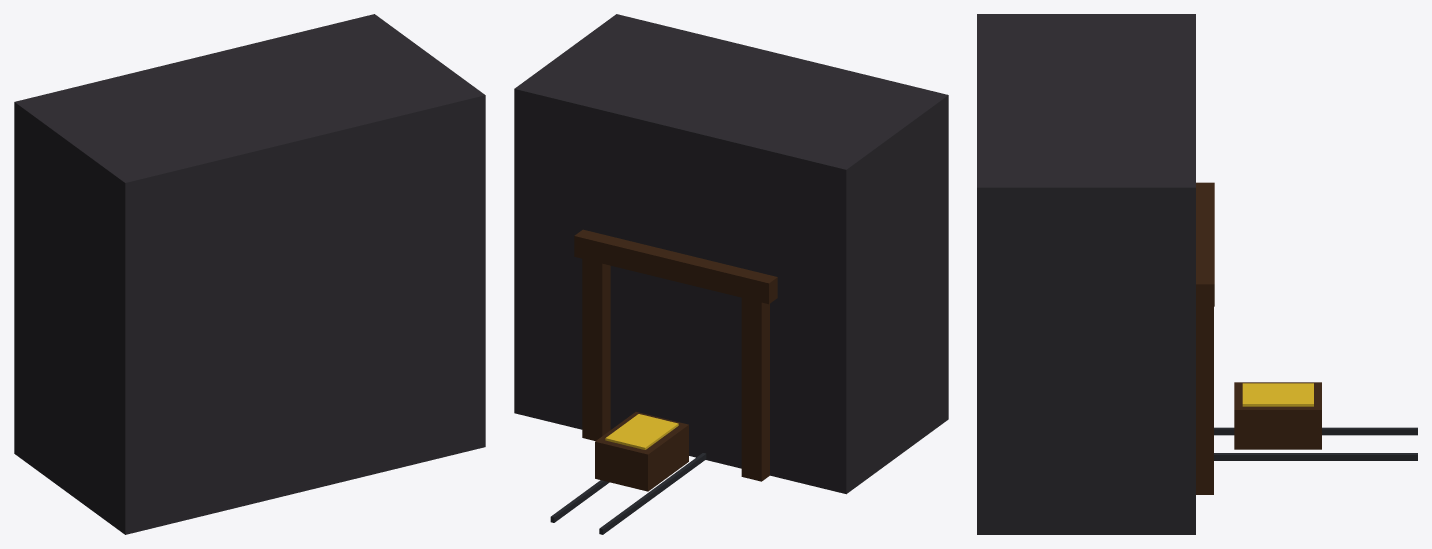
The model's file is mine_entrance.obj.
3 views of the same model, side by side, from view 1: azimuth 30°, elevation 25°; view 2: azimuth 150°, elevation 25°; view 3: azimuth 270°, elevation 25° (orthographic). The views are drawn at different scales.
Parts seen in each view (by area): view 1: Cube; view 2: Cube, Cube.003, Cube.001, Cube.002, Cube.006, Cube.007, Cube.004, Cube.005; view 3: Cube, Cube.006, Cube.002, Cube.003, Cube.007, Cube.005, Cube.004.
Part boxes in pixels (box(x1,y1,x2,y2)): Cube: box(14, 14, 485, 534); Cube: box(514, 14, 948, 494); Cube.003: box(574, 229, 777, 304); Cube.001: box(741, 297, 769, 481); Cube.002: box(582, 259, 610, 440); Cube.006: box(595, 412, 688, 491); Cube.007: box(605, 414, 678, 449); Cube.004: box(599, 453, 706, 534); Cube.005: box(550, 480, 609, 522); Cube: box(977, 14, 1195, 534); Cube.006: box(1234, 382, 1321, 449); Cube.002: box(1196, 306, 1213, 494); Cube.003: box(1196, 182, 1214, 306); Cube.007: box(1242, 383, 1313, 406); Cube.005: box(1214, 453, 1417, 460); Cube.004: box(1214, 427, 1417, 435).
Size of the model in its own units: 7.5 by 7 by 8.05.
